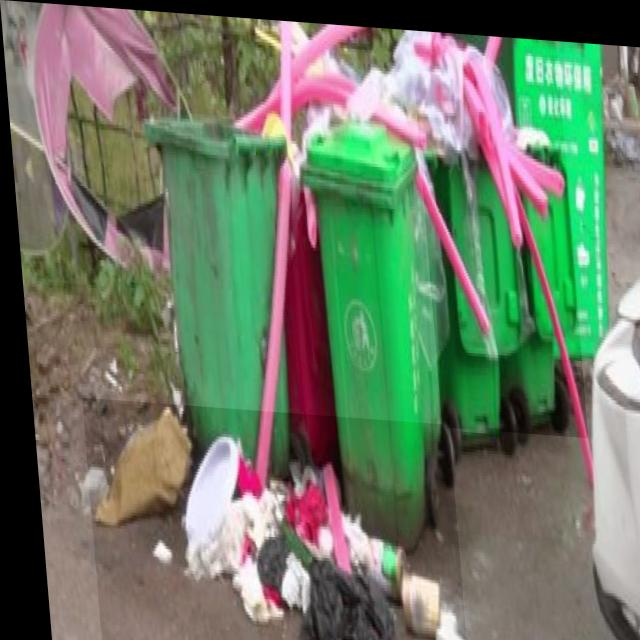garbage: (75, 397, 458, 640)
garbage_bin: (292, 109, 436, 541)
overflow: (410, 24, 581, 429), (139, 108, 301, 482)
